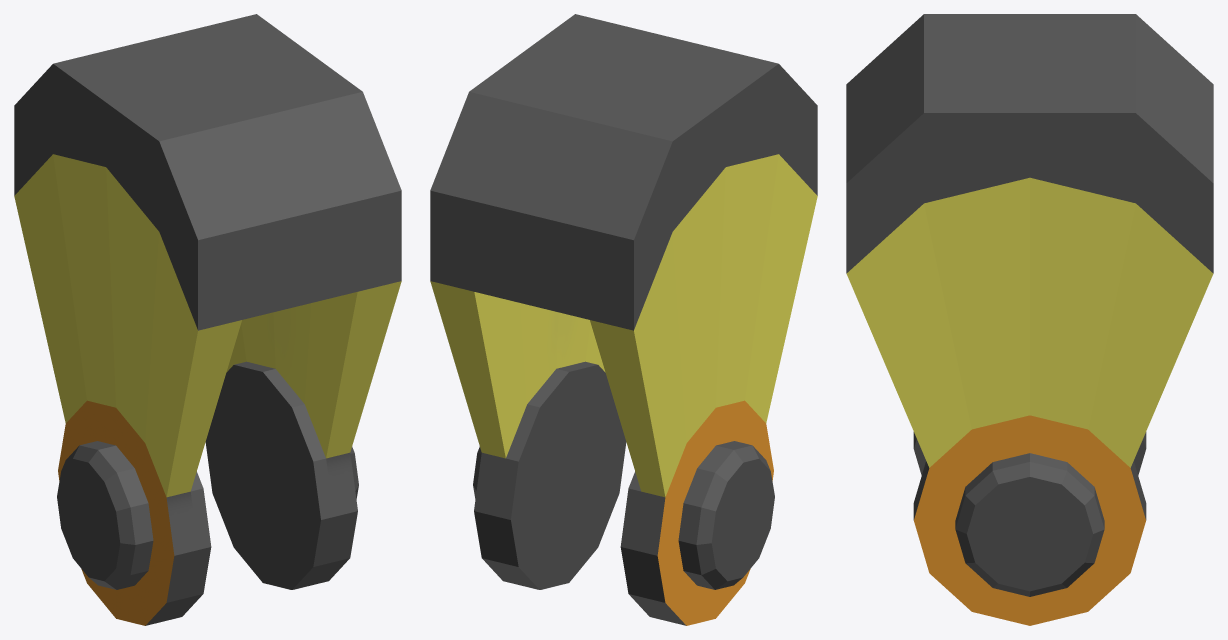
File: RuedaSupermercado.fbx
3 renders of one model, left to right at view 1: azimuth 30°, elevation 25°; view 2: azimuth 150°, elevation 25°; view 3: azimuth 270°, elevation 25°, orthographic.
Parts seen in each view (by area): view 1: RuedaMercado; view 2: RuedaMercado; view 3: RuedaMercado.
Part boxes in pixels (x1,y1,x2,y2): RuedaMercado: [14, 14, 401, 625]; RuedaMercado: [430, 14, 817, 625]; RuedaMercado: [846, 14, 1213, 625].
Size of the model in its own units: 21.77 by 45.18 by 29.03.
1 material, 1 textured.
